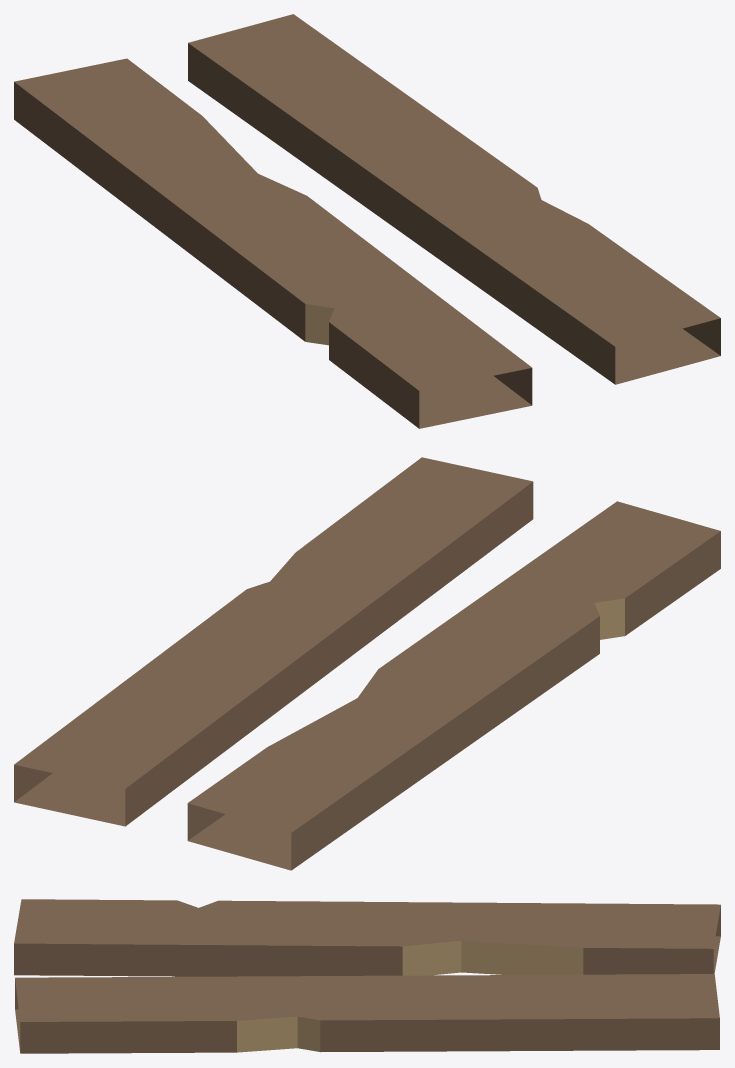
Rendered from Cave_Prop_Support_Ceiling_Boards_3.obj.
The picture shows the model from 3 angles, top to bottom: view 1: azimuth 30°, elevation 25°; view 2: azimuth 150°, elevation 25°; view 3: azimuth 270°, elevation 25°; orthographic projection. The views are drawn at different scales.
Visible parts, largest first — view 1: object1, object2; view 2: object1, object2; view 3: object1, object2.
Boxes of the visible parts, x1,y1,x2,y2 form: object1: [188, 14, 720, 384]; object2: [14, 58, 532, 428]; object1: [14, 457, 533, 826]; object2: [187, 501, 720, 870]; object1: [15, 974, 719, 1053]; object2: [14, 899, 720, 976].
Bounding box in the file's own units: 0.8302 × 0.1 × 2.02.
